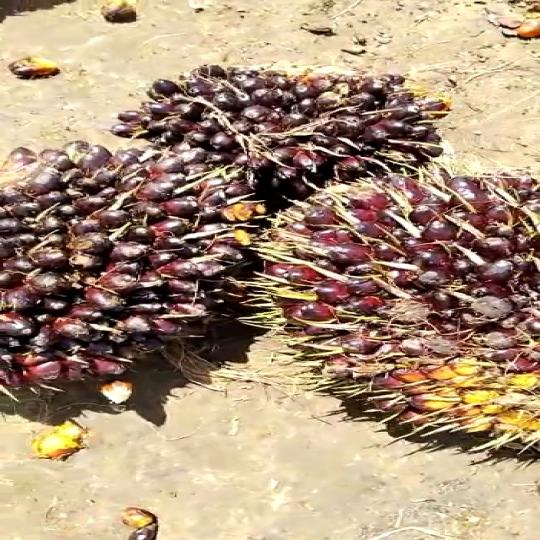mentah: (247, 146, 540, 471), (0, 127, 277, 421), (127, 48, 452, 203)
